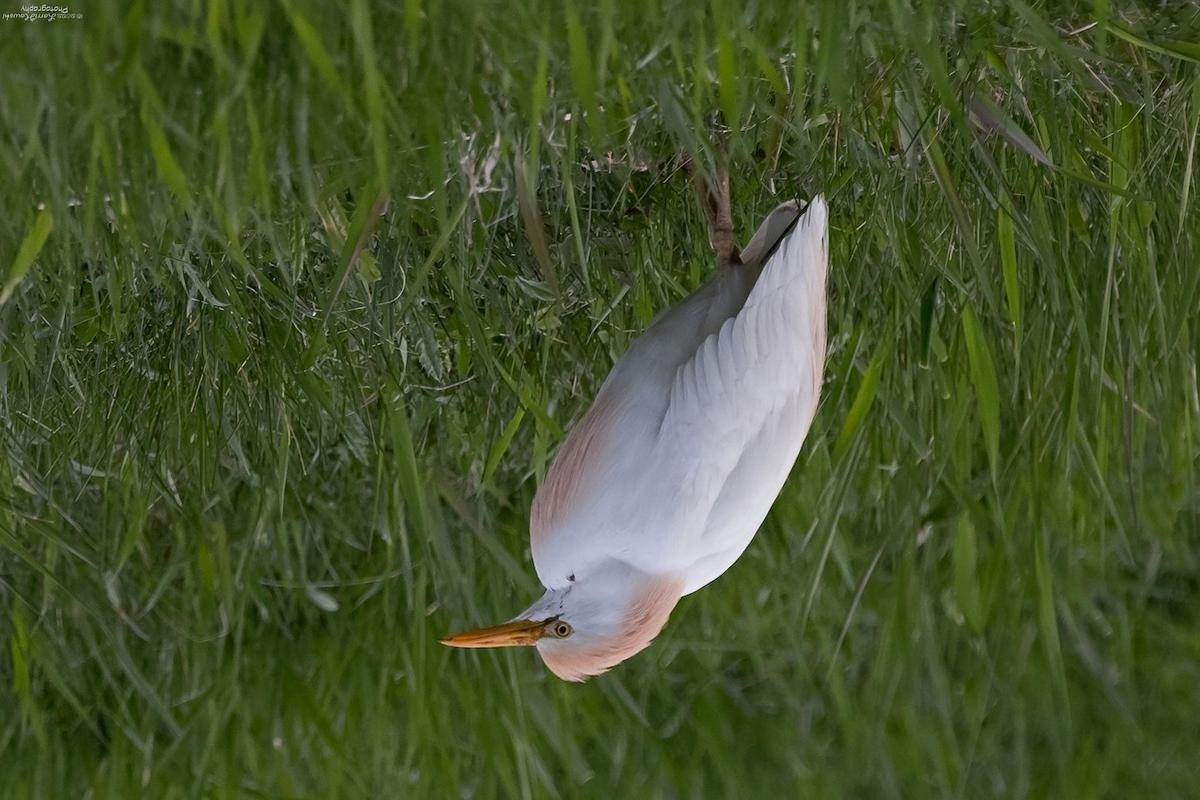egret: (426, 215, 845, 672)
